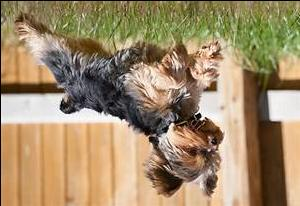dog: (13, 13, 225, 199)
